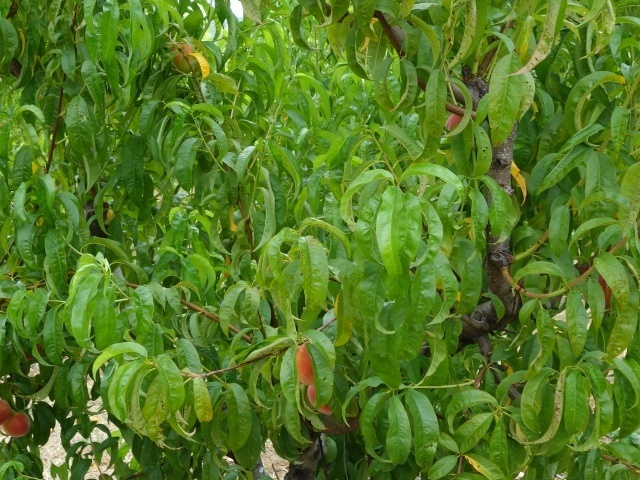peach: (288, 338, 321, 389), (303, 375, 336, 420), (164, 40, 197, 79), (1, 408, 33, 443), (1, 394, 16, 424)
